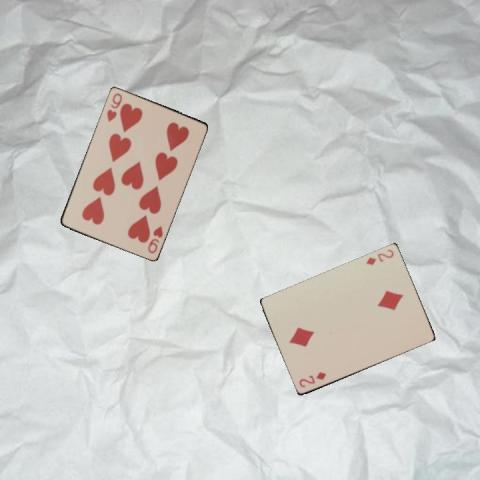2d: (363, 246, 395, 267), (296, 370, 327, 390)
9h: (104, 89, 123, 123), (145, 222, 164, 255)
